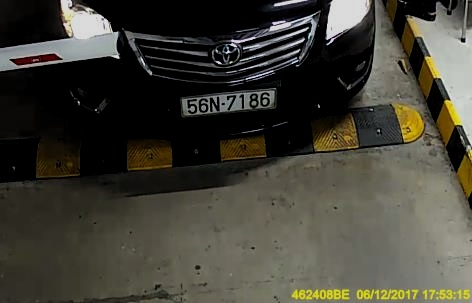plate: (178, 88, 277, 116)
